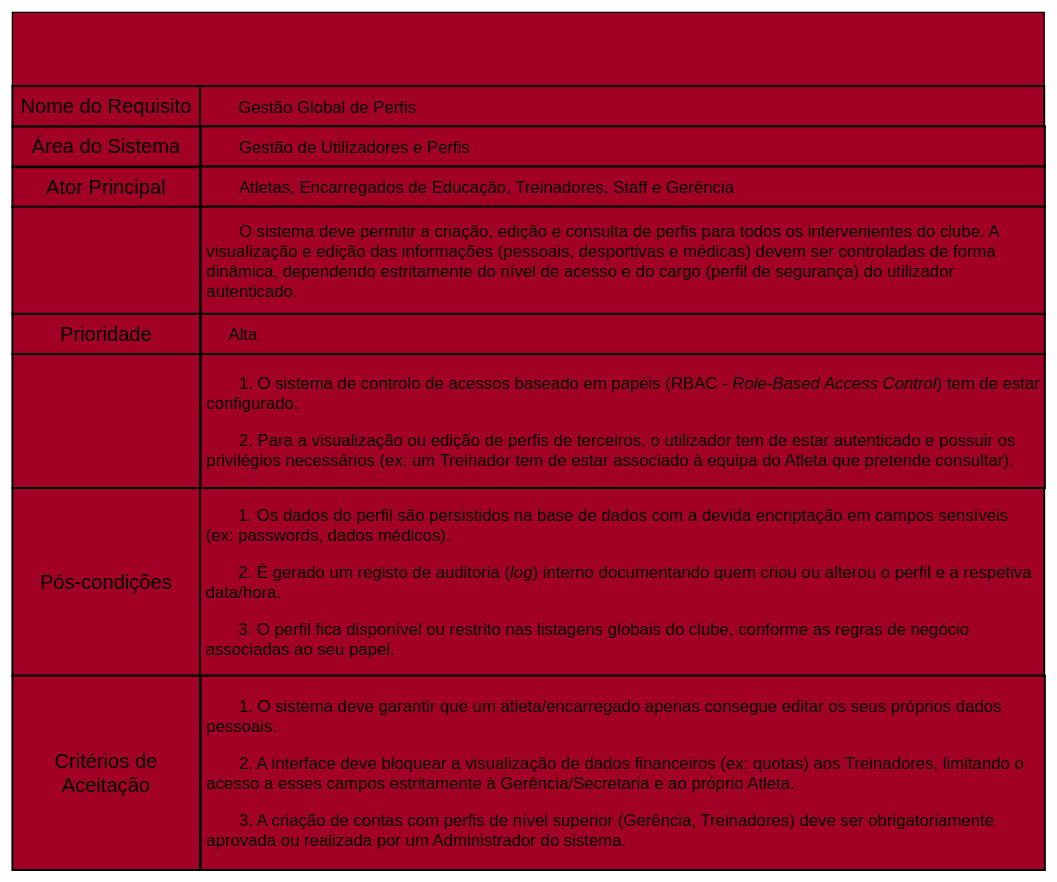
Image size: 1057x882. Some labels were removed from this diagram. Here are the shapes that lost their labels. From the top down, the centre of each, then its label:
At (x=528, y=48): "RF-01".
At (x=106, y=260): "Descrição".
At (x=106, y=421): "Pré-condições".
